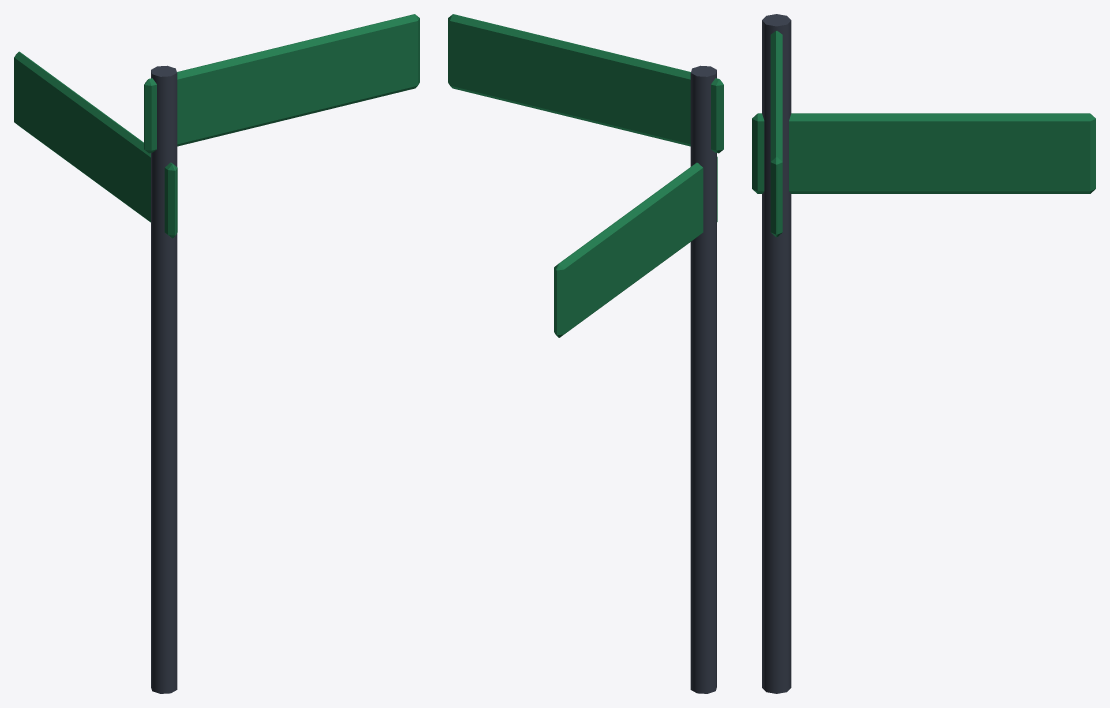
File: signpost.glb
3 views of the same model, side by side, from view 1: azimuth 30°, elevation 25°; view 2: azimuth 150°, elevation 25°; view 3: azimuth 270°, elevation 25° (orthographic). The views are drawn at different scales.
Parts seen in each view (by area): view 1: signpost_body; view 2: signpost_body; view 3: signpost_body.
Part boxes in pixels (bbox=[...]): signpost_body: bbox=[14, 14, 419, 693]; signpost_body: bbox=[448, 14, 723, 693]; signpost_body: bbox=[752, 14, 1095, 693].
Bounding box in the file's own units: 1.4 × 3 × 1.4.
